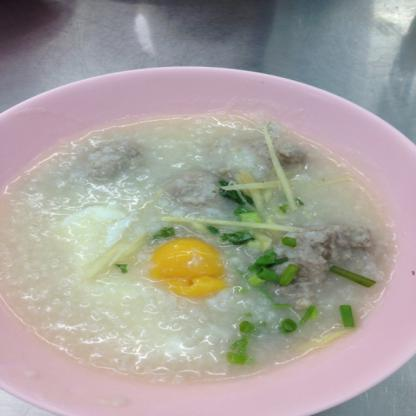Joke: (0, 101, 397, 392)
